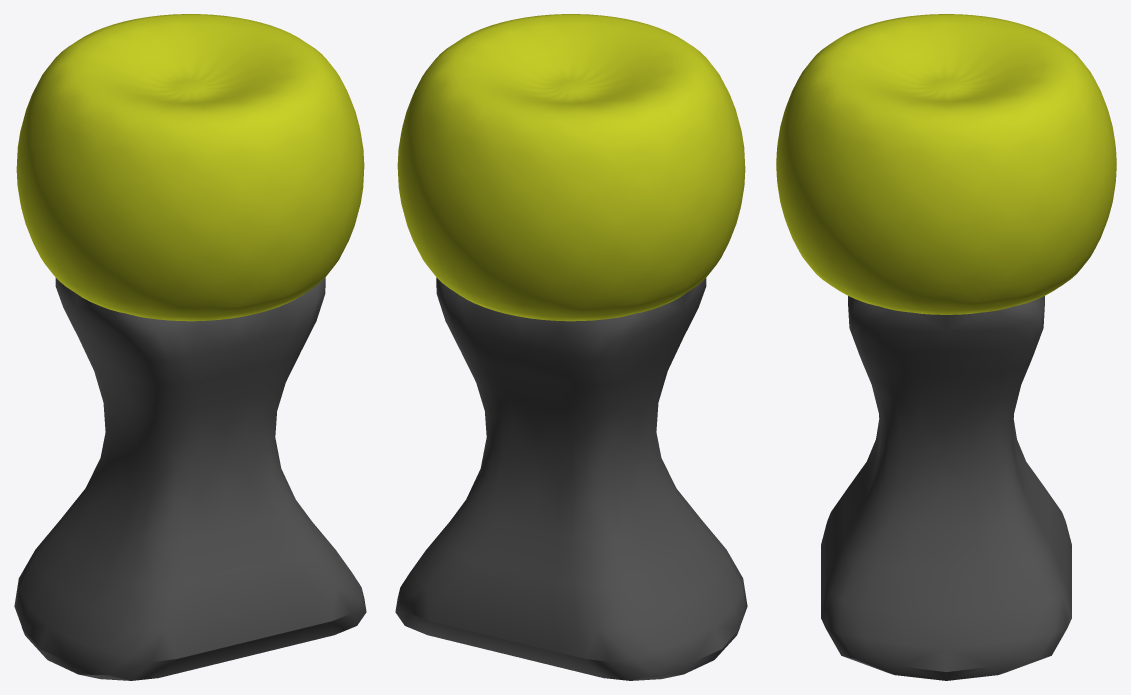
Rendered from Lights 7.fbx.
3 renders of one model, left to right at view 1: azimuth 30°, elevation 25°; view 2: azimuth 150°, elevation 25°; view 3: azimuth 270°, elevation 25°, orthographic. The views are drawn at different scales.
Parts seen in each view (by area): view 1: Sphere, Cube; view 2: Sphere, Cube; view 3: Sphere, Cube.
Part boxes in pixels (bbox=[...]): Sphere: bbox=[16, 14, 364, 321]; Cube: bbox=[14, 277, 366, 680]; Sphere: bbox=[397, 14, 745, 321]; Cube: bbox=[395, 277, 747, 680]; Sphere: bbox=[776, 14, 1116, 314]; Cube: bbox=[821, 296, 1071, 680].
Size of the model in its own units: 178 by 320 by 178.
